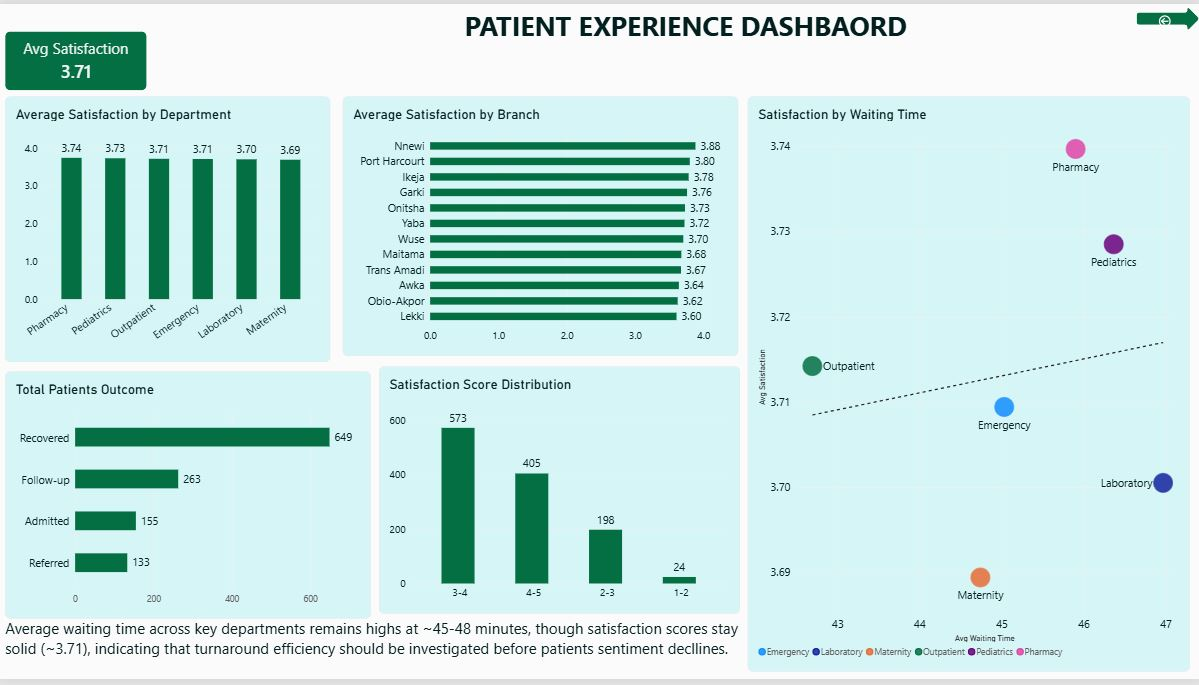

Layout of this report page (visuals, bound fields, positions):
{"tool":"powerbi","page":{"name":"Patient Experience","canvas":[1920,1080],"ordinal":3},"visuals":[{"type":"cardVisual","fields":{"Data":["State_Targets.Avg Satisfactory"]},"box":[10,25,226.4,94.7],"z":0},{"type":"columnChart","title":"Average Satisfaction by Department","fields":{"Category":["Patient_Visits.Department"],"Y":["State_Targets.Avg Satisfactory"]},"box":[10,130,520,440],"z":1000},{"type":"clusteredBarChart","title":"Average Satisfaction by Branch","fields":{"Category":["Patient_Visits.Branch"],"Y":["State_Targets.Avg Satisfactory"]},"box":[545,130,635,440],"z":2000},{"type":"scatterChart","title":"Satisfaction by Waiting Time","fields":{"Series":["Patient_Visits.Department"],"X":["State_Targets.Avg Waiting Time"],"Y":["State_Targets.Avg Satisfaction"]},"box":[1195,130,707.5,930],"z":3000},{"type":"clusteredBarChart","title":"Total Patients Outcome","fields":{"Category":["Patient_Visits.Outcome"],"Y":["State_Targets.Total Patients"]},"box":[10,585,585,400],"z":4000},{"type":"columnChart","title":"Satisfaction Score Distribution","fields":{"Category":["Patient_Visits.Satisfaction_Band"],"Y":["State_Targets.Total Patients"]},"box":[602.5,585,577.5,400],"z":5000},{"type":"actionButton","box":[1819.1,4.1,100.9,39.1],"z":6000},{"type":"textbox","box":[331.4,4.1,1123.8,67.9],"z":7000},{"type":"textbox","box":[10,985,1170,95],"z":7001}]}

Visuals, with their boxes in screenshot pixels (x1, y1, x2, y2), scaled from the page's 1920x1080 canvas onto the 1199x685 screenshot:
cardVisual - State_Targets.Avg Satisfactory: box=[6, 16, 148, 76]
"Average Satisfaction by Department" columnChart: box=[6, 82, 331, 362]
"Average Satisfaction by Branch" clusteredBarChart: box=[340, 82, 737, 362]
"Satisfaction by Waiting Time" scatterChart: box=[746, 82, 1188, 672]
"Total Patients Outcome" clusteredBarChart: box=[6, 371, 372, 625]
"Satisfaction Score Distribution" columnChart: box=[376, 371, 737, 625]
actionButton: box=[1136, 3, 1198, 27]
textbox: box=[207, 3, 909, 46]
textbox: box=[6, 625, 737, 684]
